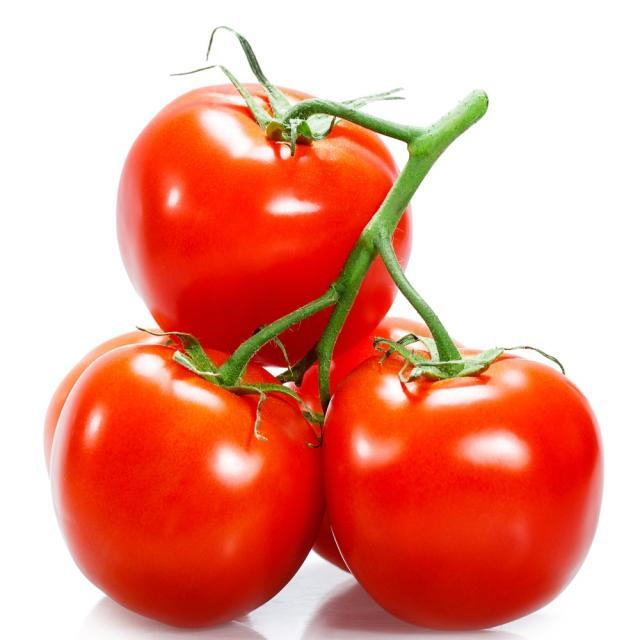kirmizi: (70, 66, 584, 622)
